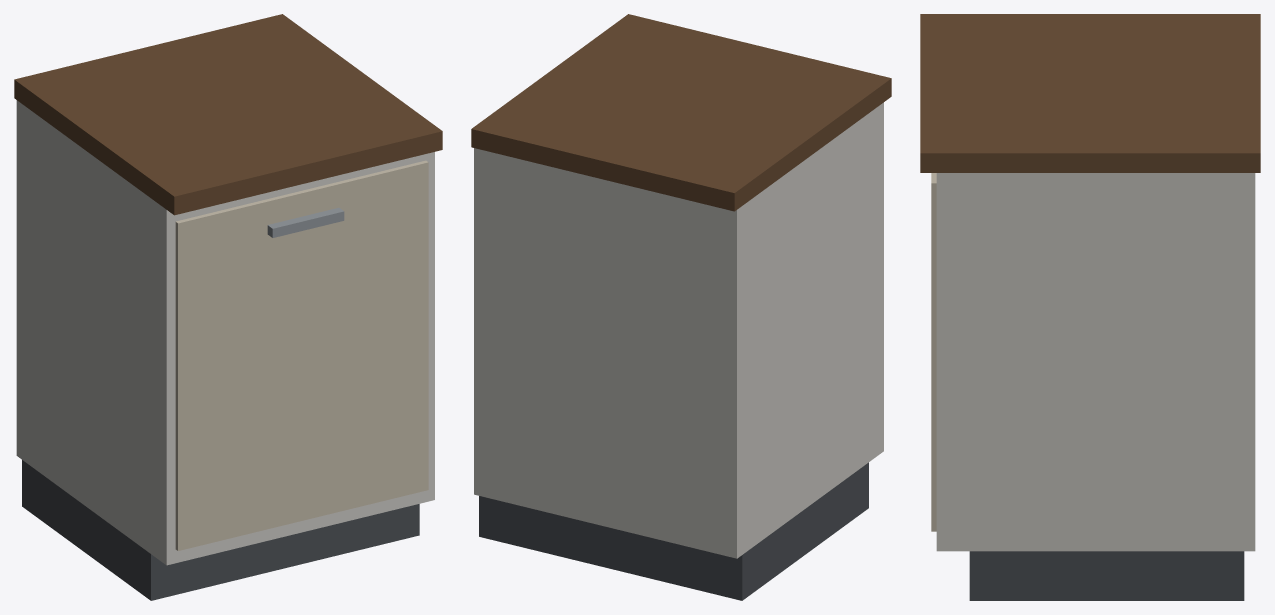
Rendered from kitchen_base.glb.
The picture shows the model from 3 angles, left to right: view 1: azimuth 30°, elevation 25°; view 2: azimuth 150°, elevation 25°; view 3: azimuth 270°, elevation 25°; orthographic projection. The views are drawn at different scales.
Visible parts, largest first — view 1: kitchen_base; view 2: kitchen_base; view 3: kitchen_base.
Part boxes in pixels (x1,y1,x2,y2): kitchen_base: (14,14,442,600); kitchen_base: (471,14,891,600); kitchen_base: (920,14,1260,600).
Bounding box in the file's own units: 0.6 × 0.9 × 0.62.
